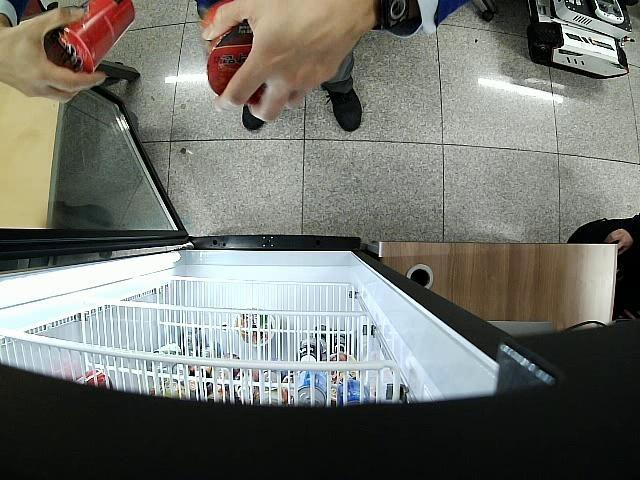02_shinRamen_S: (46, 0, 135, 74), (206, 19, 268, 102)
